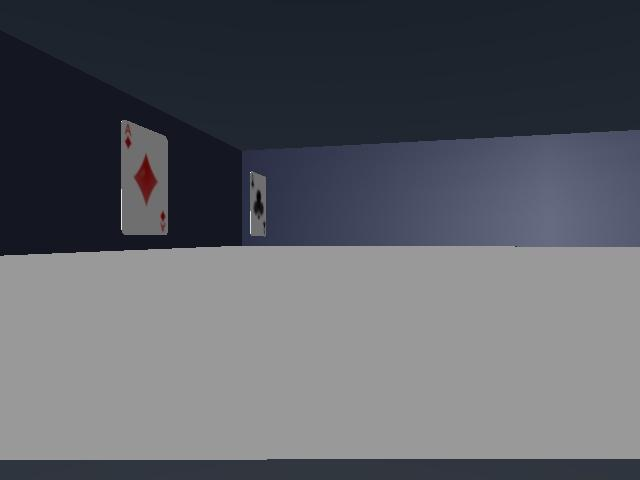club: (250, 172, 265, 236)
diamond: (121, 120, 168, 234)
